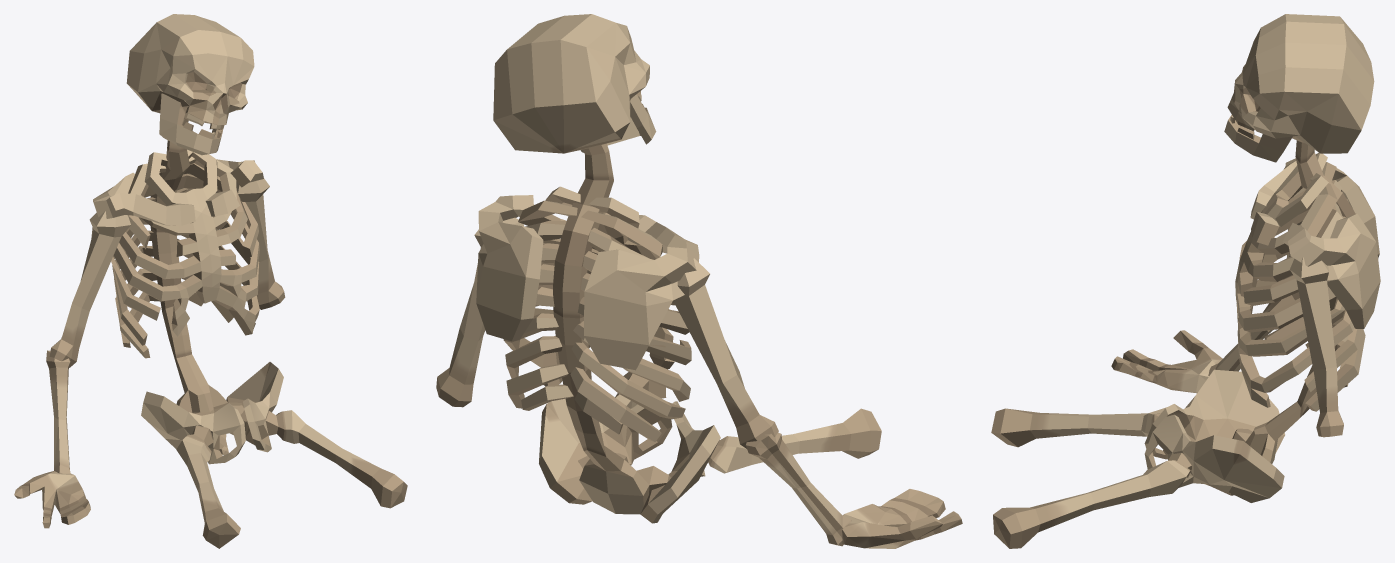
Rendered from SM_Prop_Skeleton_01.fbx.
3 renders of one model, left to right at view 1: azimuth 30°, elevation 25°; view 2: azimuth 150°, elevation 25°; view 3: azimuth 270°, elevation 25°, orthographic. The views are drawn at different scales.
Parts seen in each view (by area): view 1: SM_Prop_Skeleton_01; view 2: SM_Prop_Skeleton_01; view 3: SM_Prop_Skeleton_01.
Part boxes in pixels (x1,y1,x2,y2): SM_Prop_Skeleton_01: (14, 14, 407, 548); SM_Prop_Skeleton_01: (436, 14, 962, 548); SM_Prop_Skeleton_01: (991, 14, 1380, 548).
Size of the model in its own units: 84.07 by 98.85 by 72.75.
